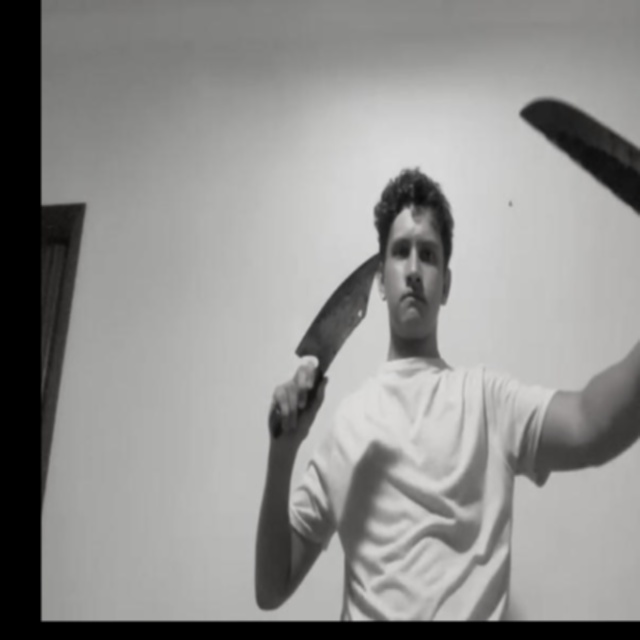Sharp-Object: (521, 97, 640, 216), (295, 252, 381, 356)
